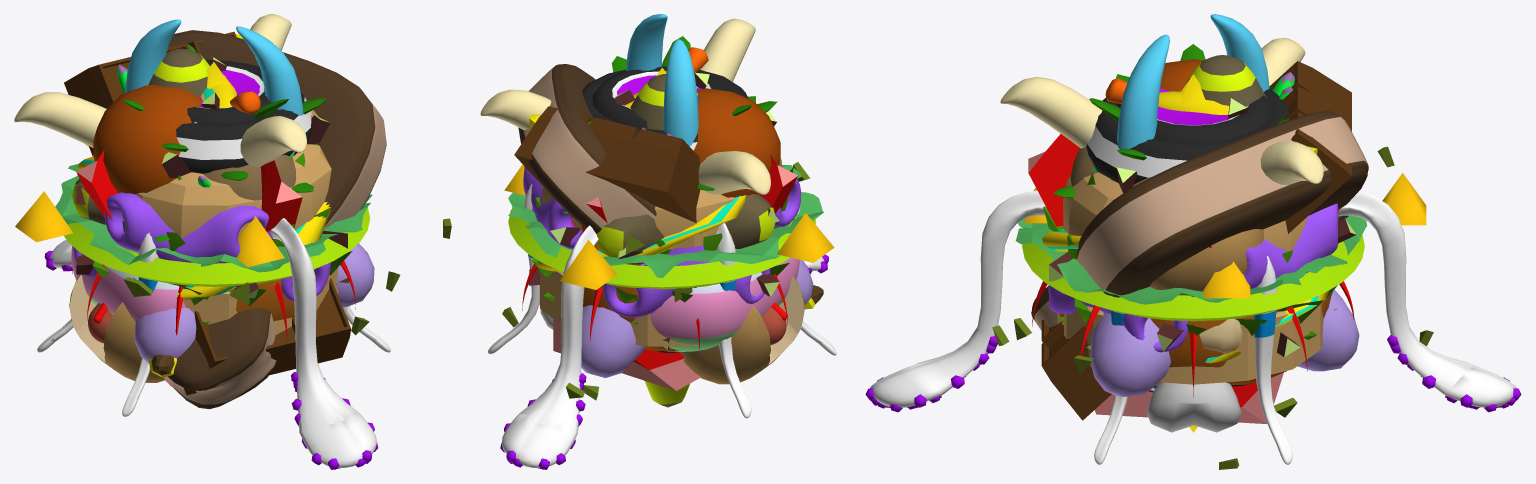
File: foods.fbx
The picture shows the model from 3 angles, left to right: view 1: azimuth 30°, elevation 25°; view 2: azimuth 150°, elevation 25°; view 3: azimuth 270°, elevation 25°; orthographic projection. The views are drawn at different scales.
Parts seen in each view (by area): view 1: 3steak, 4alien, 6hamburger, 14alien, 6alien, 12chicken, 8alien, 13alien, 8chocolate, 10alien, 7hotdog, 12alien (+9 smaller); view 2: 4alien, 6alien, 3steak, 10alien, 14alien, 6hamburger, 8chocolate, 13alien, 7alien, 7hotdog, 12chicken, 8alien (+6 smaller); view 3: 3steak, 4alien, 6alien, 6hamburger, 14alien, 8alien, 13alien, 8chocolate, 10alien, 12chicken, 12alien, 7hotdog (+6 smaller).
Boxes of the visible parts, left/top/right/bottom form: 3steak: left=166, top=30, right=386, bottom=409; 4alien: left=37, top=218, right=390, bottom=469; 6hamburger: left=55, top=144, right=372, bottom=334; 14alien: left=73, top=19, right=331, bottom=301; 6alien: left=14, top=14, right=374, bottom=363; 12chicken: left=93, top=84, right=201, bottom=194; 8alien: left=72, top=60, right=355, bottom=341; 13alien: left=64, top=207, right=451, bottom=335; 8chocolate: left=64, top=31, right=350, bottom=395; 10alien: left=15, top=48, right=284, bottom=266; 7hotdog: left=69, top=110, right=318, bottom=382; 12alien: left=76, top=150, right=302, bottom=386; 4alien: left=488, top=184, right=836, bottom=469; 6alien: left=480, top=18, right=813, bottom=377; 3steak: left=518, top=64, right=656, bottom=263; 10alien: left=504, top=74, right=834, bottom=407; 14alien: left=523, top=14, right=801, bottom=317; 6hamburger: left=508, top=156, right=823, bottom=346; 8chocolate: left=514, top=106, right=700, bottom=223; 13alien: left=502, top=162, right=816, bottom=400; 7alien: left=650, top=257, right=799, bottom=351; 7hotdog: left=524, top=166, right=804, bottom=384; 12chicken: left=540, top=88, right=780, bottom=329; 8alien: left=522, top=66, right=787, bottom=352; 3steak: left=1031, top=110, right=1368, bottom=330; 4alien: left=865, top=190, right=1521, bottom=464; 6alien: left=1000, top=38, right=1359, bottom=396; 6hamburger: left=1015, top=172, right=1367, bottom=384; 14alien: left=1048, top=14, right=1338, bottom=352; 8alien: left=1032, top=88, right=1354, bottom=397; 13alien: left=992, top=146, right=1433, bottom=469; 8chocolate: left=1041, top=61, right=1351, bottom=420; 10alien: left=1024, top=55, right=1426, bottom=298; 12chicken: left=1146, top=59, right=1241, bottom=432; 12alien: left=1028, top=134, right=1339, bottom=423; 7hotdog: left=1132, top=177, right=1263, bottom=295.
Size of the model in its own units: 56.84 by 55.75 by 80.4.
